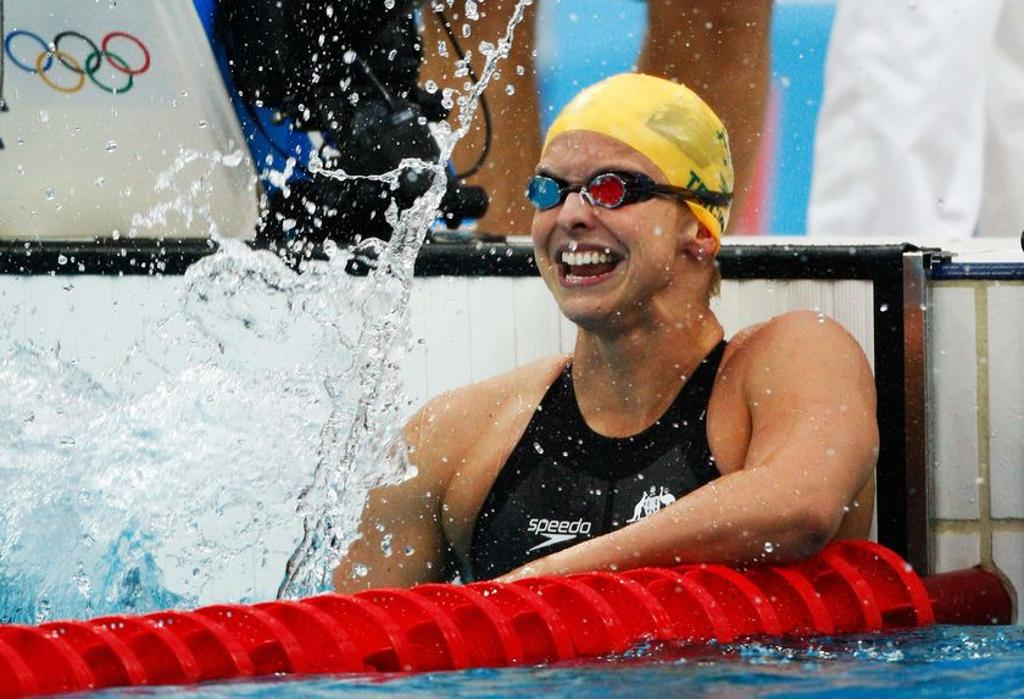face: (517, 141, 655, 315)
